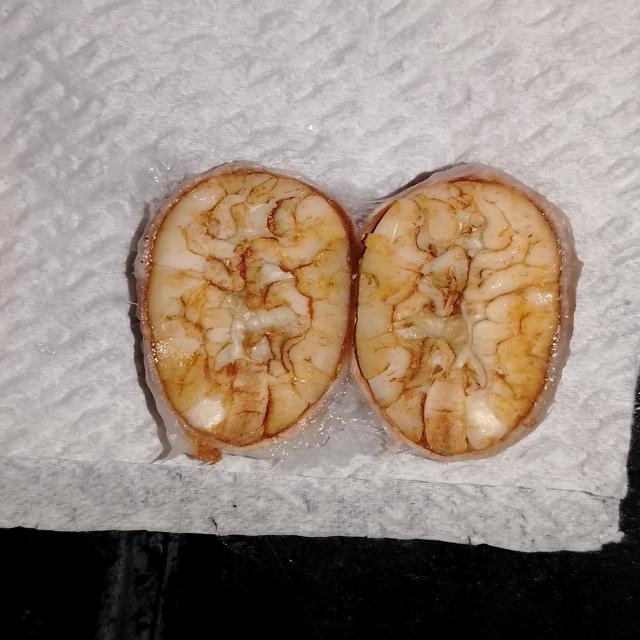Criollo: (357, 178, 563, 462), (159, 171, 359, 458)
